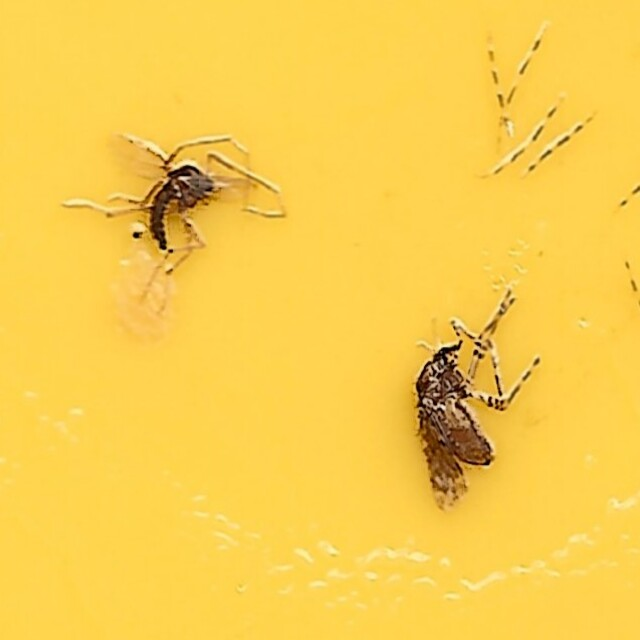Nematocera: (400, 319, 540, 513), (100, 127, 232, 256)
